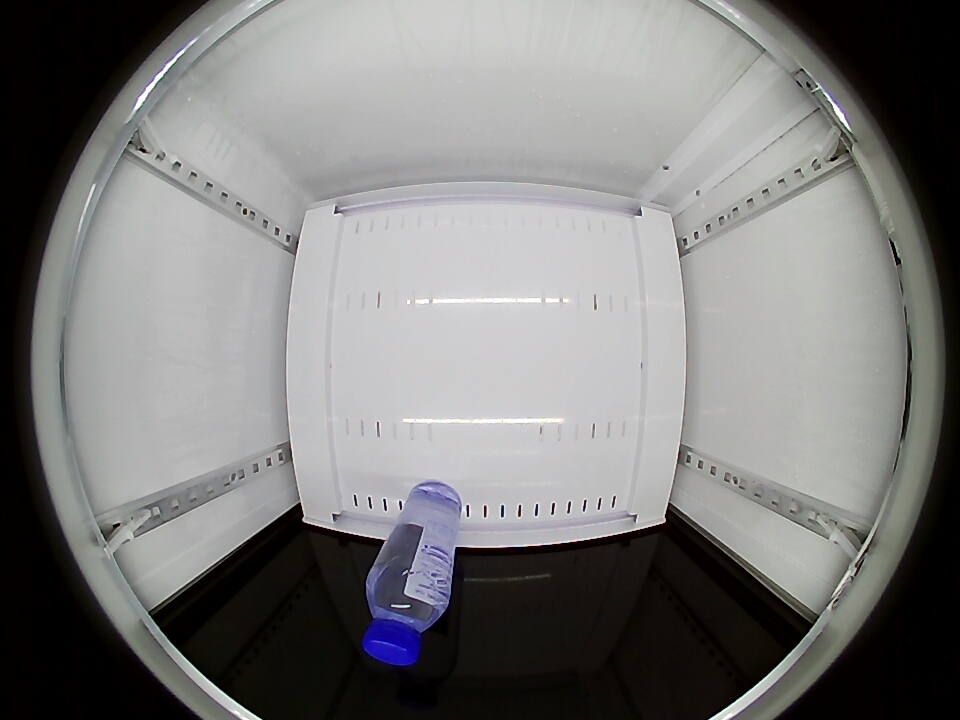aerbeisi: (362, 565, 451, 667)
